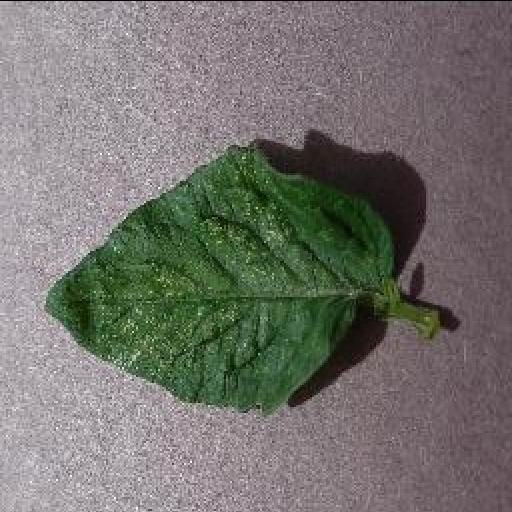disease_tomato: (41, 142, 391, 416)
